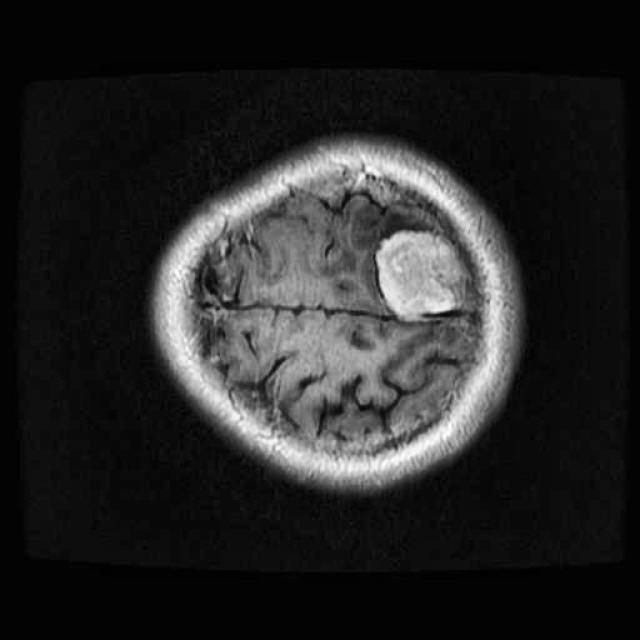Tumor: (368, 218, 482, 328)
